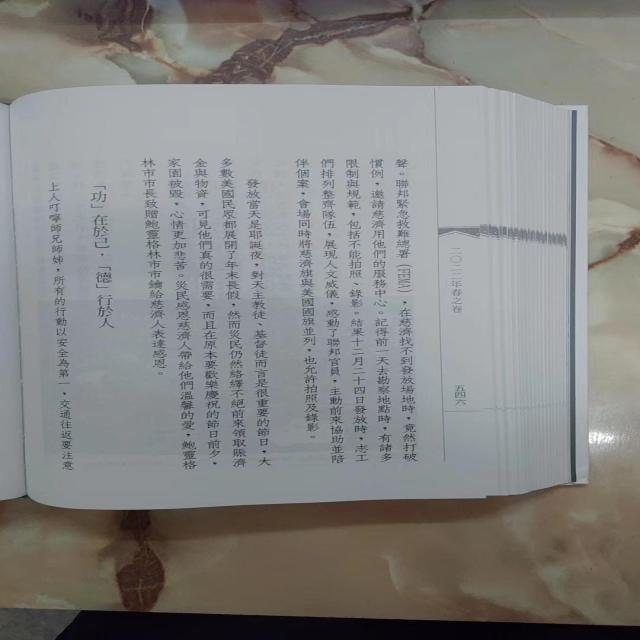paper: (0, 85, 588, 498)
